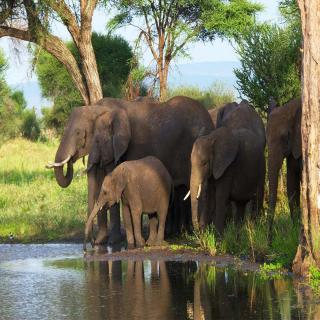Elephant: (84, 95, 217, 253), (182, 124, 267, 236), (82, 154, 175, 253), (262, 90, 312, 266)
